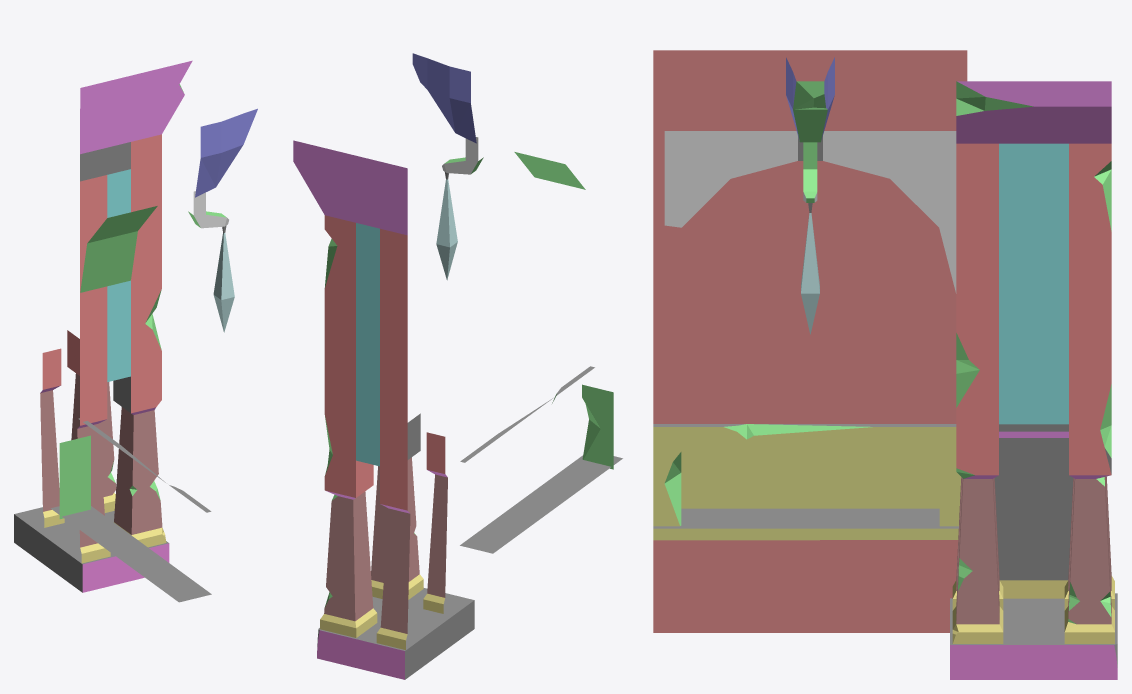
File: SSQ_BRoom02_wall02.gltf
The picture shows the model from 3 angles, left to right: view 1: azimuth 30°, elevation 25°; view 2: azimuth 150°, elevation 25°; view 3: azimuth 270°, elevation 25°; orthographic projection. The views are drawn at different scales.
Parts seen in each view (by area): view 1: SSQ_BRoom02_wall02; view 2: SSQ_BRoom02_wall02; view 3: SSQ_BRoom02_wall02.
Part boxes in pixels (x1,y1,x2,y2): SSQ_BRoom02_wall02: (14,60,257,602); SSQ_BRoom02_wall02: (293,53,622,679); SSQ_BRoom02_wall02: (653,50,1117,679).
Bounding box in the file's own units: 1.13 × 3.88 × 2.66.
